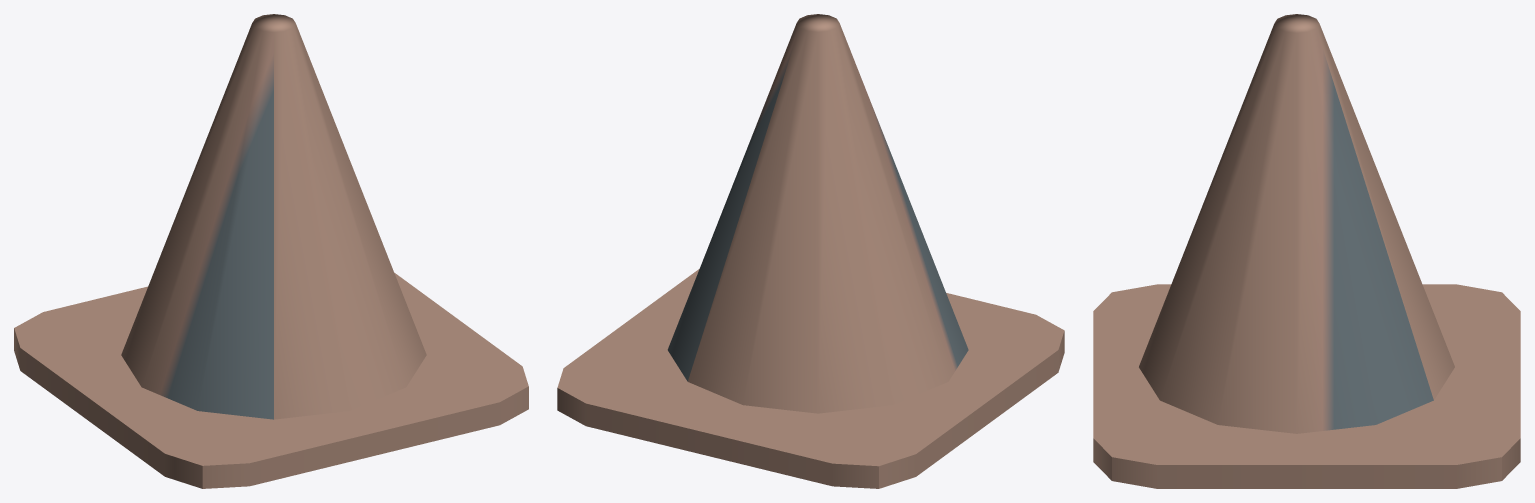
The model's file is TrafficCone_01.fbx.
3 views of the same model, side by side, from view 1: azimuth 30°, elevation 25°; view 2: azimuth 150°, elevation 25°; view 3: azimuth 270°, elevation 25° (orthographic). The views are drawn at different scales.
Parts seen in each view (by area): view 1: pCylinder2; view 2: pCylinder2; view 3: pCylinder2.
Boxes of the visible parts, x1,y1,x2,y2 form: pCylinder2: (14,14,528,488); pCylinder2: (557,14,1064,488); pCylinder2: (1093,14,1520,488).
Size of the model in its own units: 0.45 by 0.4341 by 0.45.
1 material, 1 textured.
